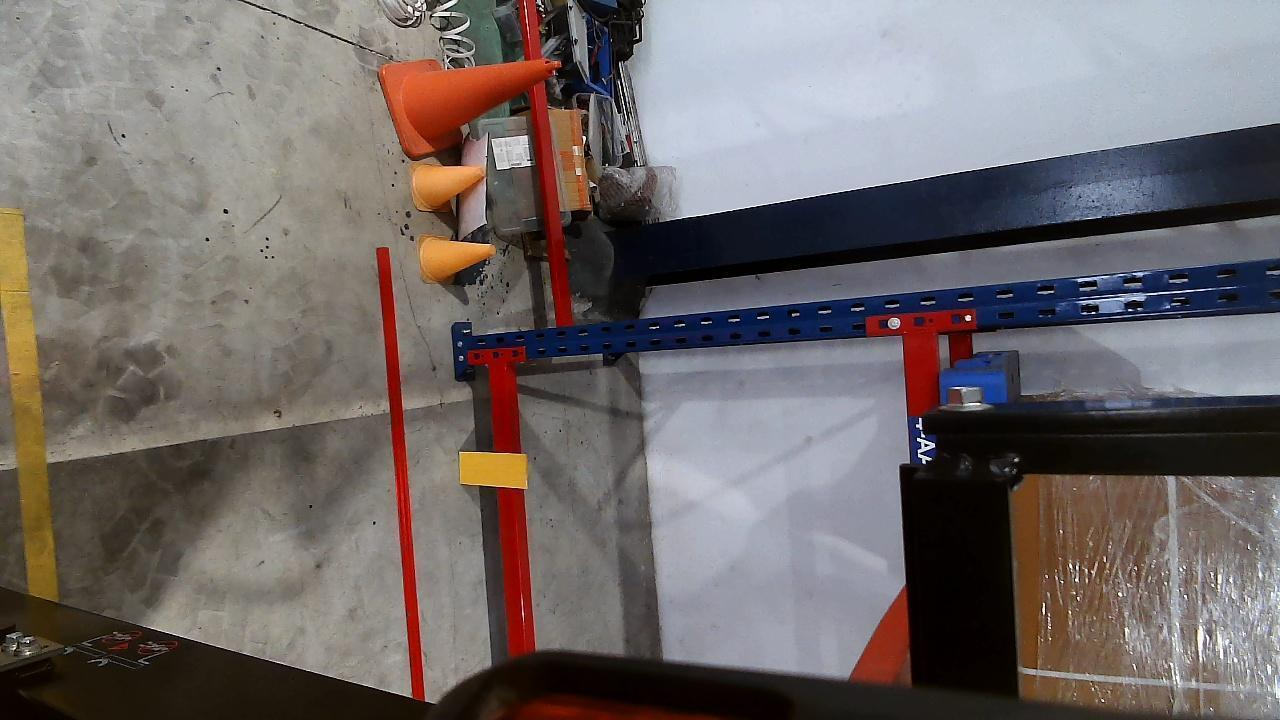red_line: (373, 243, 424, 700)
yellow_line: (1, 212, 59, 597)
